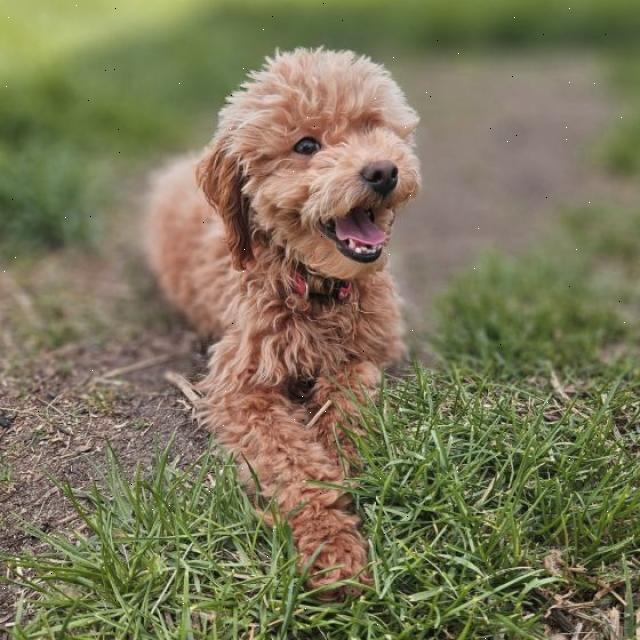Poodle_dog: (182, 28, 440, 324)
